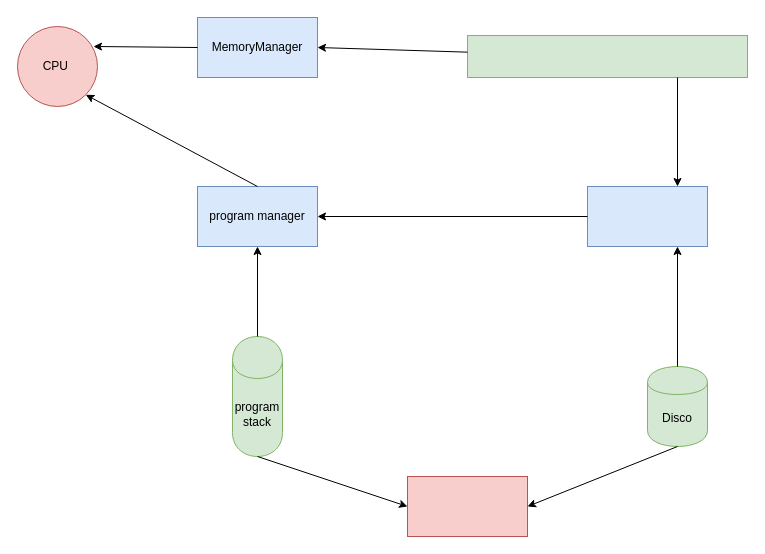
This 765x554 diagram has some shape labels left out. The shapes that lost their labels are listed below. From the top down, each one's centre as x and y in pixels, then its label:
the point at 607,56: Main memory
the point at 647,216: planificador de memoria
the point at 467,506: Generador de programas
